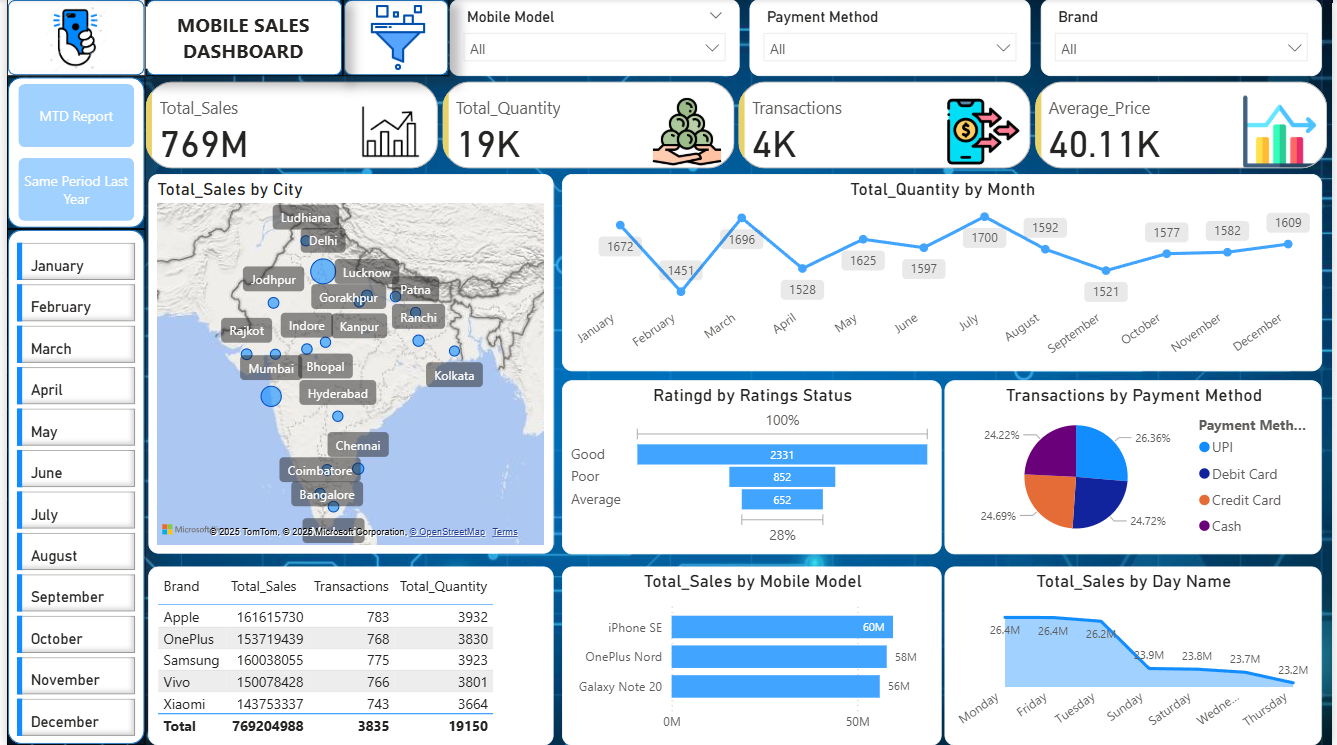

This screenshot's page, from the dashboard's own definition file:
{"tool":"powerbi","page":{"name":"Dashboard","canvas":[1280,720],"ordinal":0},"visuals":[{"type":"shape","box":[0,0,133.9,74.8],"z":0},{"type":"image","box":[0,0,133.9,74.8],"z":1000},{"type":"shape","box":[0,74.8,133.9,147.2],"z":2000},{"type":"shape","box":[0,222,133.9,498.3],"z":3000},{"type":"advancedSlicerVisual","fields":{"Values":["Custom_Calender.Date.Variation.Date Hierarchy.Month"]},"box":[4.8,230.4,124.3,489.8],"z":4000},{"type":"cardVisual","fields":{"Data":["Sales_Data.Total_Sales","Sales_Data.Total_Quantity","Sales_Data.Transactions","Sales_Data.Average_Price"]},"box":[129.1,74.8,1150.9,94.1],"z":5000},{"type":"slicer","fields":{"Values":["Sales_Data.Mobile Model"]},"box":[427.1,0,279.9,74.8],"z":6000},{"type":"slicer","fields":{"Values":["Sales_Data.Payment Method"]},"box":[716.6,0,271.4,74.8],"z":7000},{"type":"shape","box":[324.5,0,102.5,74.8],"z":8000},{"type":"image","box":[333,0,88.1,74.8],"z":9000},{"type":"slicer","fields":{"Values":["Sales_Data.Brand"]},"box":[997.7,0,271.4,74.8],"z":10000},{"type":"shape","box":[133.9,0,190.6,74.8],"z":11000},{"type":"textbox","box":[133.9,7.2,188.2,60.3],"z":12000},{"type":"map","fields":{"Category":["Sales_Data.City"],"Size":["Sales_Data.Total_Sales"]},"box":[136.3,168.9,390.9,366.8],"z":13000},{"type":"lineChart","fields":{"Y":["Sales_Data.Total_Quantity"],"Category":["Custom_Calender.Date.Variation.Date Hierarchy.Month"]},"box":[535.7,168.9,733.5,190.6],"z":14000},{"type":"funnel","title":"Ratingd by Ratings Status","fields":{"Y":["CountNonNull(Sales_Data.Customer Age)"],"Category":["Sales_Data.Rating Status"]},"box":[535.7,368,366.8,167.7],"z":15000},{"type":"pieChart","fields":{"Y":["Sales_Data.Transactions"],"Category":["Sales_Data.Payment Method"]},"box":[904.8,368,364.3,167.7],"z":16000},{"type":"clusteredBarChart","fields":{"Y":["Sales_Data.Total_Sales"],"Category":["Sales_Data.Mobile Model"]},"box":[535.7,547.7,366.8,172.5],"z":17000},{"type":"areaChart","fields":{"Category":["Custom_Calender.Day Name"],"Y":["Sales_Data.Total_Sales"]},"box":[904.8,547.7,364.3,172.5],"z":18000},{"type":"tableEx","fields":{"Values":["Sales_Data.Brand","Sales_Data.Total_Sales","Sales_Data.Transactions","Sales_Data.Total_Quantity"]},"box":[136.3,547.7,390.9,172.5],"z":19000},{"type":"pageNavigator","box":[10.9,82,112.2,132.7],"z":19001}]}

Visuals, with their boxes in screenshot pixels (x1, y1, x2, y2), scaled from the page's 1280x720 canvas onto the 1337x745 screenshot:
shape: 0, 0, 140, 77
image: 0, 0, 140, 77
shape: 0, 77, 140, 230
shape: 0, 230, 140, 744
advancedSlicerVisual - Custom_Calender.Date.Variation.Date Hierarchy.Month: 5, 238, 135, 744
cardVisual - Sales_Data.Total_Sales x Sales_Data.Total_Quantity: 135, 77, 1336, 175
slicer - Sales_Data.Mobile Model: 446, 0, 738, 77
slicer - Sales_Data.Payment Method: 749, 0, 1032, 77
shape: 339, 0, 446, 77
image: 348, 0, 440, 77
slicer - Sales_Data.Brand: 1042, 0, 1326, 77
shape: 140, 0, 339, 77
textbox: 140, 7, 336, 70
map - Sales_Data.City x Sales_Data.Total_Sales: 142, 175, 551, 554
lineChart - Sales_Data.Total_Quantity x Custom_Calender.Date.Variation.Date Hierarchy.Month: 560, 175, 1326, 372
"Ratingd by Ratings Status" funnel: 560, 381, 943, 554
pieChart - Sales_Data.Transactions x Sales_Data.Payment Method: 945, 381, 1326, 554
clusteredBarChart - Sales_Data.Total_Sales x Sales_Data.Mobile Model: 560, 567, 943, 744
areaChart - Custom_Calender.Day Name x Sales_Data.Total_Sales: 945, 567, 1326, 744
tableEx - Sales_Data.Brand x Sales_Data.Total_Sales: 142, 567, 551, 744
pageNavigator: 11, 85, 129, 222
